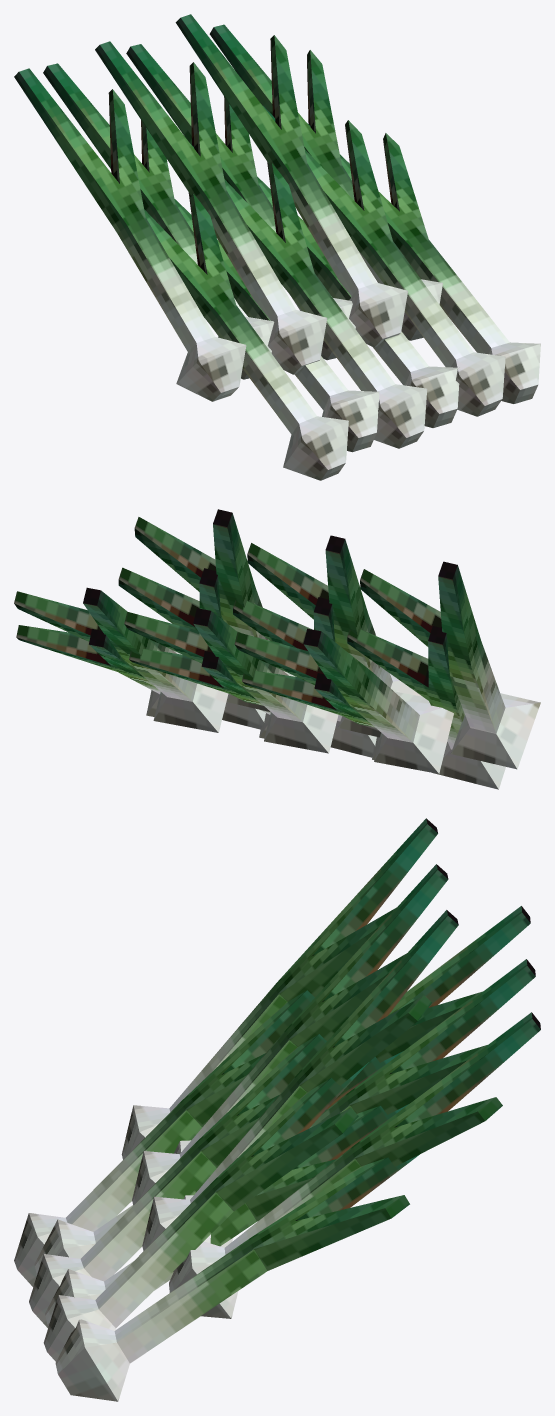
The model's file is Fruta3.fbx.
3 views of the same model, one above another, from view 1: azimuth 30°, elevation 25°; view 2: azimuth 150°, elevation 25°; view 3: azimuth 270°, elevation 25° (orthographic). The views are drawn at different scales.
Visible parts, largest first — view 1: Cube.010; view 2: Cube.010; view 3: Cube.010.
Part boxes in pixels (box(x1,y1,x2,y2)): Cube.010: box(14, 14, 540, 480); Cube.010: box(14, 509, 540, 789); Cube.010: box(14, 818, 540, 1401).
Bounding box in the file's own units: 41.07 × 33.89 × 41.49.
1 material, 1 textured.
